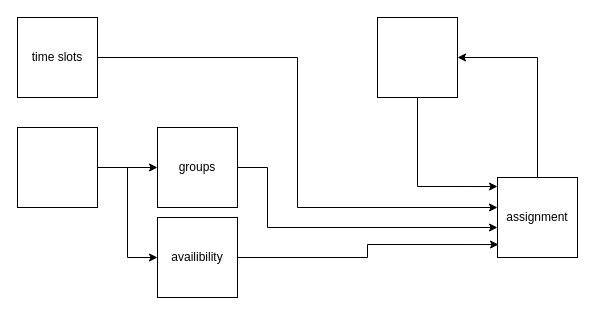
Some shapes in this 595 by 315 pixel diagram are drawn without their labels. Here are the shapes that lost their labels. From the top down, the centre of each, then its label:
At pixel 417 57: "history".
At pixel 57 167: "participants".
